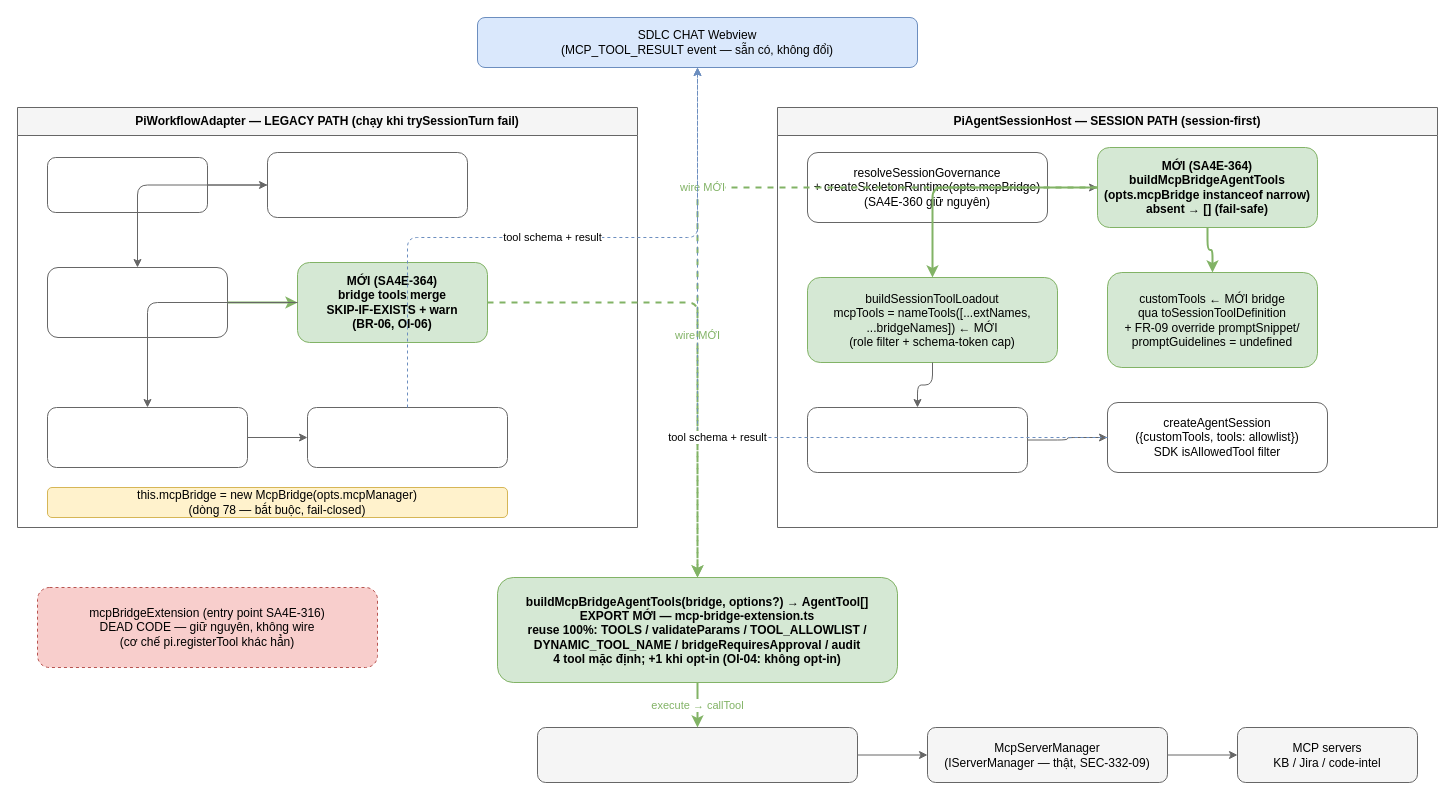
The diagram is 1455 pixels wide and 800 high, and some of its shapes have lost their labels. The centre of each missing label's shape, as x and y in pixels:
byName merge builtin → ext LAST-WINS (giữ AFT hoist): (137,302)
createWorkspaceTools + getPiExtensionAgentTools (6 npm pi packages): (367,185)
engine.executeTurn tools=[...byName.values()]: (407,437)
governLegacyTurnOrReject (đo schemas gồm bridge tools): (147,437)
McpBridge.callTool() (timeout 60s, _as_path → base64): (697,754)
runSessionBudgetGate (REJECT/WARN; escalate BR-08 → bridge tự drop): (917,439)
trySessionTurn (session-first): (127,184)
